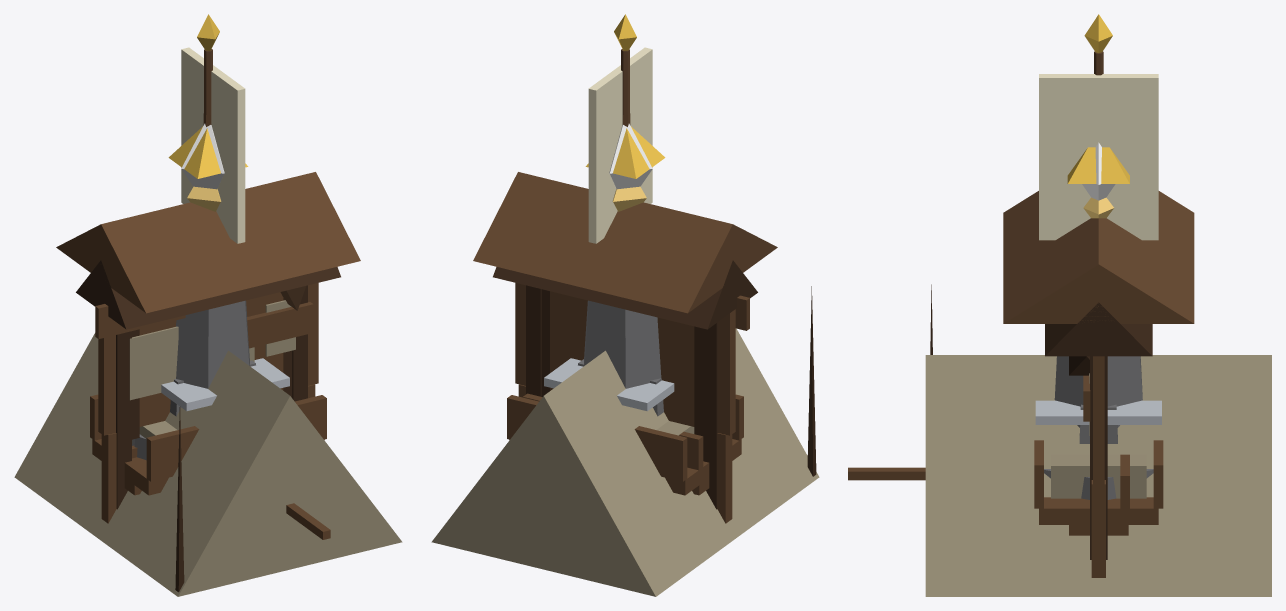
The model's file is Env_Props.obj.
The picture shows the model from 3 angles, left to right: view 1: azimuth 30°, elevation 25°; view 2: azimuth 150°, elevation 25°; view 3: azimuth 270°, elevation 25°; orthographic projection. The views are drawn at different scales.
Parts seen in each view (by area): view 1: Env_Props_Tent, Env_Props_Well, Env_Props_NoticeBoard, Env_Props_FlagPole_Light, Env_Props_Waystone, Env_Props_Cart, Env_Props_Signpost, Env_Props_LampPost_Light, Env_Props_Fence_Segment; view 2: Env_Props_Tent, Env_Props_Well, Env_Props_NoticeBoard, Env_Props_FlagPole_Light, Env_Props_Waystone, Env_Props_Cart, Env_Props_LampPost_Light, Env_Props_Fence_Segment, Env_Props_Bench; view 3: Env_Props_Tent, Env_Props_Well, Env_Props_FlagPole_Light, Env_Props_Cart, Env_Props_NoticeBoard, Env_Props_Waystone, Env_Props_LampPost_Light, Env_Props_Fence_Segment, Env_Props_Bench, Env_Props_Signpost.
Boxes of the visible parts, x1,y1,x2,y2 form: Env_Props_Tent: (14,333,402,596); Env_Props_Well: (56,172,360,460); Env_Props_NoticeBoard: (76,260,340,509); Env_Props_FlagPole_Light: (181,14,245,243); Env_Props_Waystone: (161,123,289,411); Env_Props_Cart: (90,394,330,539); Env_Props_Signpost: (95,286,313,348); Env_Props_LampPost_Light: (168,126,248,211); Env_Props_Fence_Segment: (101,384,315,523); Env_Props_Tent: (431,286,819,596); Env_Props_Well: (473,172,777,435); Env_Props_NoticeBoard: (493,260,757,509); Env_Props_FlagPole_Light: (588,14,652,243); Env_Props_Waystone: (544,123,674,411); Env_Props_Cart: (507,394,743,495); Env_Props_LampPost_Light: (585,126,665,211); Env_Props_Fence_Segment: (518,384,732,523); Env_Props_Bench: (523,393,709,495); Env_Props_Tent: (925,284,1271,596); Env_Props_Well: (1003,191,1194,499); Env_Props_FlagPole_Light: (1039,14,1158,240); Env_Props_Cart: (848,440,1163,524); Env_Props_NoticeBoard: (1045,302,1152,559); Env_Props_Waystone: (1035,142,1161,427); Env_Props_LampPost_Light: (1067,147,1129,218); Env_Props_Fence_Segment: (1091,480,1105,577); Env_Props_Bench: (1069,454,1129,535); Env_Props_Signpost: (1069,356,1090,421).
Size of the model in its own units: 2.35 by 4.87 by 3.55.
